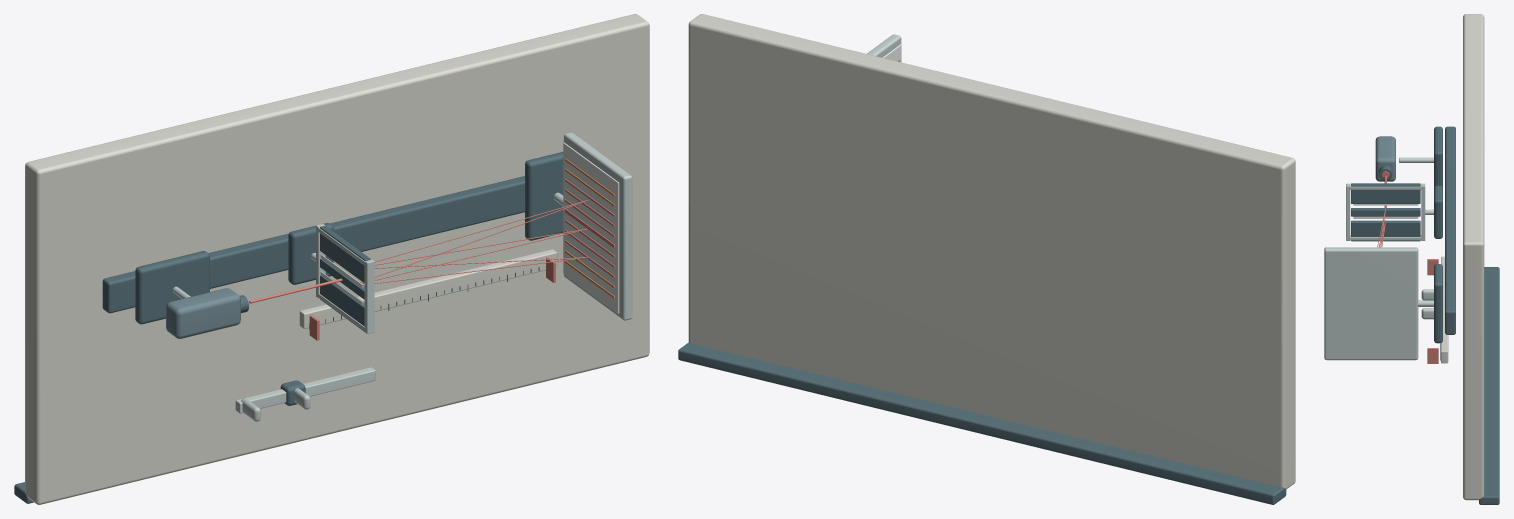
File: rp02-double-slit.glb
3 renders of one model, left to right at view 1: azimuth 30°, elevation 25°; view 2: azimuth 150°, elevation 25°; view 3: azimuth 270°, elevation 25°, orthographic. The views are drawn at different scales.
Visible parts, largest first — view 1: Lab bench surface, Optical rail, Projection screen face, Metre rule along optical axis, Laser weighted foot, Projection screen frame, Screen weighted foot, Low-power monochromatic laser, Vernier caliper main scale, Double-slit slide foot, Opaque double-slit slide section.002, Opaque double-slit slide section (+1 smaller); view 2: Lab bench surface, Bench front face; view 3: Projection screen frame, Lab bench surface, Bench front face, Optical rail, Opaque double-slit slide section, Opaque double-slit slide section.002, Low-power monochromatic laser, Screen weighted foot, Opaque double-slit slide section.001, Laser weighted foot, Double-slit slide foot, Metre rule along optical axis (+4 smaller).
Part boxes in pixels (left/top/right/bottom): Lab bench surface: left=25, top=14, right=649, bottom=504; Optical rail: left=102, top=176, right=524, bottom=313; Projection screen face: left=563, top=142, right=619, bottom=313; Metre rule along optical axis: left=299, top=249, right=557, bottom=328; Laser weighted foot: left=135, top=251, right=209, bottom=324; Projection screen frame: left=563, top=132, right=632, bottom=320; Screen weighted foot: left=525, top=152, right=563, bottom=240; Low-power monochromatic laser: left=166, top=288, right=240, bottom=338; Vernier caliper main scale: left=235, top=367, right=375, bottom=413; Double-slit slide foot: left=288, top=223, right=333, bottom=284; Opaque double-slit slide section.002: left=320, top=225, right=370, bottom=283; Opaque double-slit slide section: left=320, top=274, right=364, bottom=331; Lab bench surface: left=688, top=14, right=1295, bottom=489; Bench front face: left=678, top=342, right=1286, bottom=504; Projection screen frame: left=1324, top=247, right=1418, bottom=360; Lab bench surface: left=1463, top=14, right=1484, bottom=500; Bench front face: left=1479, top=267, right=1499, bottom=504; Optical rail: left=1445, top=126, right=1455, bottom=334; Opaque double-slit slide section: left=1351, top=220, right=1420, bottom=241; Opaque double-slit slide section.002: left=1351, top=183, right=1420, bottom=203; Low-power monochromatic laser: left=1375, top=136, right=1395, bottom=181; Screen weighted foot: left=1434, top=264, right=1442, bottom=343; Opaque double-slit slide section.001: left=1351, top=208, right=1420, bottom=216; Laser weighted foot: left=1434, top=126, right=1442, bottom=187; Double-slit slide foot: left=1434, top=185, right=1442, bottom=238; Metre rule along optical axis: left=1441, top=256, right=1448, bottom=363.
Bounding box in the file's own units: 9 × 4.78 × 2.89.
